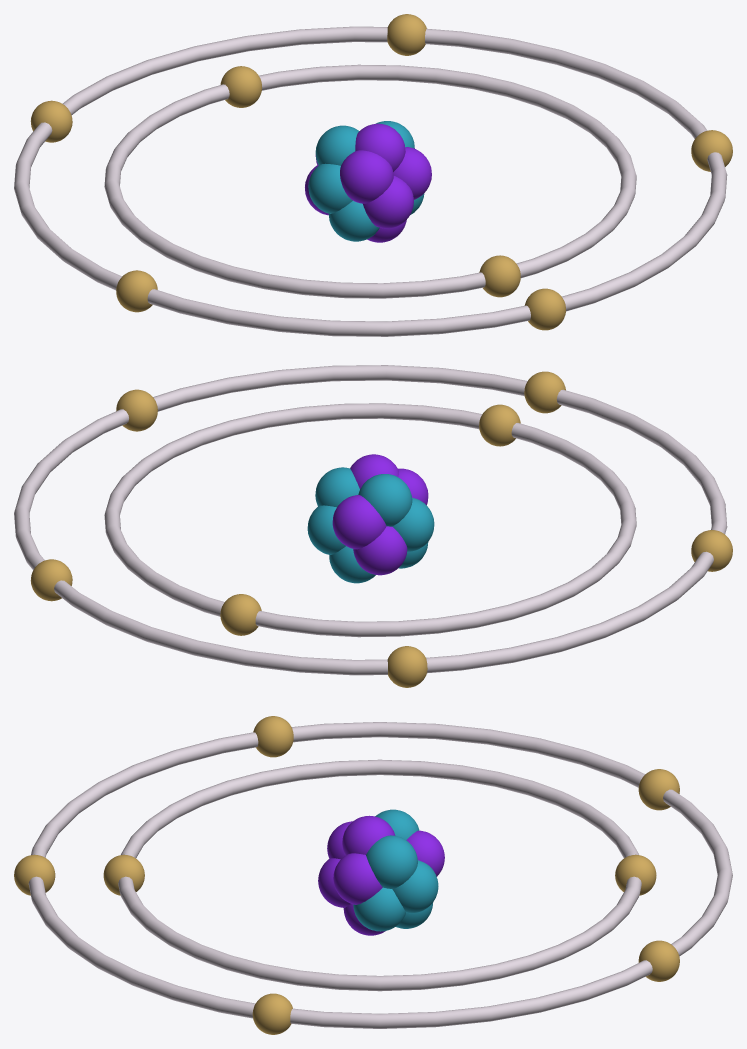
The model's file is nitrogenio.glb.
The picture shows the model from 3 angles, top to bottom: view 1: azimuth 30°, elevation 25°; view 2: azimuth 150°, elevation 25°; view 3: azimuth 270°, elevation 25°; orthographic projection.
Parts seen in each view (by area): view 1: Orbita_2, Orbita_1, Nucleo_Completo, Eletron_C3_3, Eletron_1, Eletron_C2_1, Eletron_2, Eletron_C3_5, Eletron_C3_4, Eletron_C2_2; view 2: Orbita_2, Orbita_1, Nucleo_Completo, Eletron_C3_4, Eletron_2, Eletron_1, Eletron_C2_1, Eletron_C2_2, Eletron_C3_3, Eletron_C3_5; view 3: Orbita_2, Orbita_1, Nucleo_Completo, Eletron_C2_2, Eletron_C3_5, Eletron_C3_3, Eletron_C3_4, Eletron_2, Eletron_1, Eletron_C2_1.
Boxes of the visible parts, x1,y1,x2,y2 form: Orbita_2: (14, 26, 727, 336); Orbita_1: (104, 64, 636, 298); Nucleo_Completo: (305, 121, 431, 242); Eletron_C3_3: (387, 14, 426, 55); Eletron_1: (479, 255, 520, 297); Eletron_C2_1: (524, 288, 565, 330); Eletron_2: (220, 66, 262, 107); Eletron_C3_5: (116, 270, 157, 312); Eletron_C3_4: (30, 100, 72, 142); Eletron_C2_2: (691, 130, 732, 171); Orbita_2: (14, 365, 727, 675); Orbita_1: (104, 403, 636, 637); Nucleo_Completo: (307, 454, 434, 583); Eletron_C3_4: (387, 646, 427, 687); Eletron_2: (220, 594, 261, 635); Eletron_1: (479, 404, 520, 446); Eletron_C2_1: (524, 371, 565, 413); Eletron_C2_2: (116, 389, 157, 431); Eletron_C3_3: (30, 559, 72, 601); Eletron_C3_5: (691, 530, 732, 571); Orbita_2: (28, 722, 732, 1028); Orbita_1: (118, 759, 641, 991); Nucleo_Completo: (318, 809, 444, 935); Eletron_C2_2: (252, 993, 292, 1034); Eletron_C3_5: (253, 716, 293, 757); Eletron_C3_3: (638, 940, 679, 981); Eletron_C3_4: (638, 769, 679, 810); Eletron_2: (615, 854, 656, 895); Eletron_1: (103, 854, 144, 895); Eletron_C2_1: (14, 854, 55, 895).
Bounding box in the file's own units: 2.76 × 0.4906 × 2.81.
